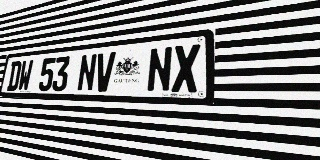3: (51, 56, 70, 91)
5: (38, 57, 56, 91)
D: (6, 61, 22, 91)
N: (146, 46, 173, 92), (76, 53, 97, 92)
V: (94, 52, 116, 92)
W: (17, 60, 34, 91)
X: (171, 43, 200, 92)
